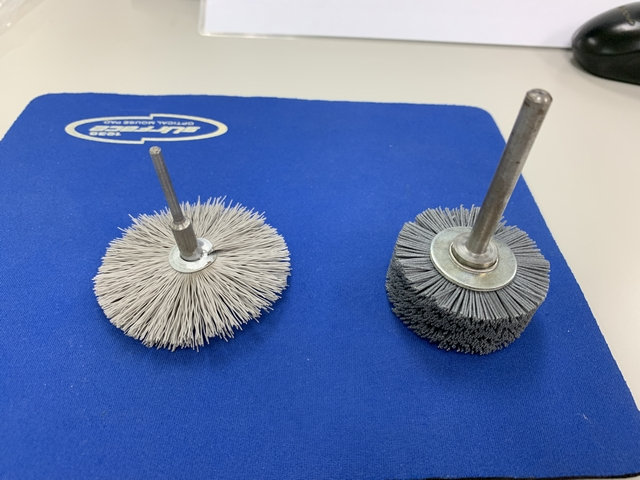TOOL: (87, 141, 303, 359), (123, 148, 291, 329), (121, 153, 263, 321), (150, 146, 291, 304)
Wheel Brush: (384, 82, 561, 362), (402, 92, 564, 348), (413, 91, 562, 341)
